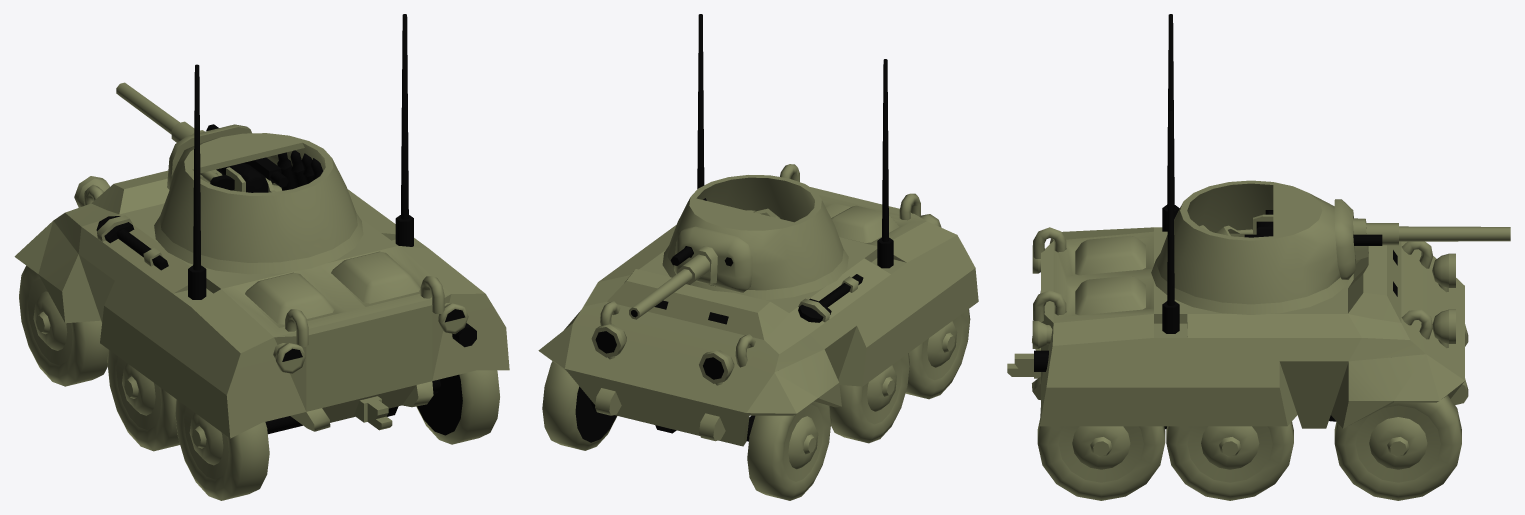
Rendered from Tank_US_M8_Greyhound.fbx.
The picture shows the model from 3 angles, left to right: view 1: azimuth 30°, elevation 25°; view 2: azimuth 150°, elevation 25°; view 3: azimuth 270°, elevation 25°; orthographic projection. The views are drawn at different scales.
Visible parts, largest first — view 1: hull, turret, tire_back, wheel_back, tire_front_l, gun, wheel_front_l, barrel; view 2: hull, turret, tire_back, tire_front_l, gun, wheel_back, tire_front_r, wheel_front_l, wheel_front_r, barrel; view 3: hull, turret, wheel_back, tire_back, wheel_front_r, tire_front_r, gun, barrel.
Part boxes in pixels (x1,y1,x2,y2): hull: (14,14,509,438); turret: (154,133,363,274); tire_back: (107,350,499,500); wheel_back: (116,356,462,479); tire_front_l: (19,265,108,386); gun: (167,121,288,192); wheel_front_l: (28,278,72,365); barrel: (116,82,179,134); hull: (538,14,978,446); turret: (662,175,848,300); tire_back: (829,309,970,443); tire_front_l: (747,401,831,500); gun: (670,208,780,292); wheel_back: (862,315,962,424); tire_front_r: (542,361,617,450); wheel_front_l: (783,404,823,481); wheel_front_r: (575,386,616,442); barrel: (629,269,692,319); hull: (1007,14,1468,429); turret: (1151,180,1348,314); wheel_back: (1058,426,1272,482); tire_back: (1037,418,1293,500); wheel_front_r: (1355,405,1440,482); tire_front_r: (1334,395,1461,500); gun: (1216,199,1398,279); barrel: (1399,226,1510,241).
Size of the model in its own units: 341 by 538 by 446.
